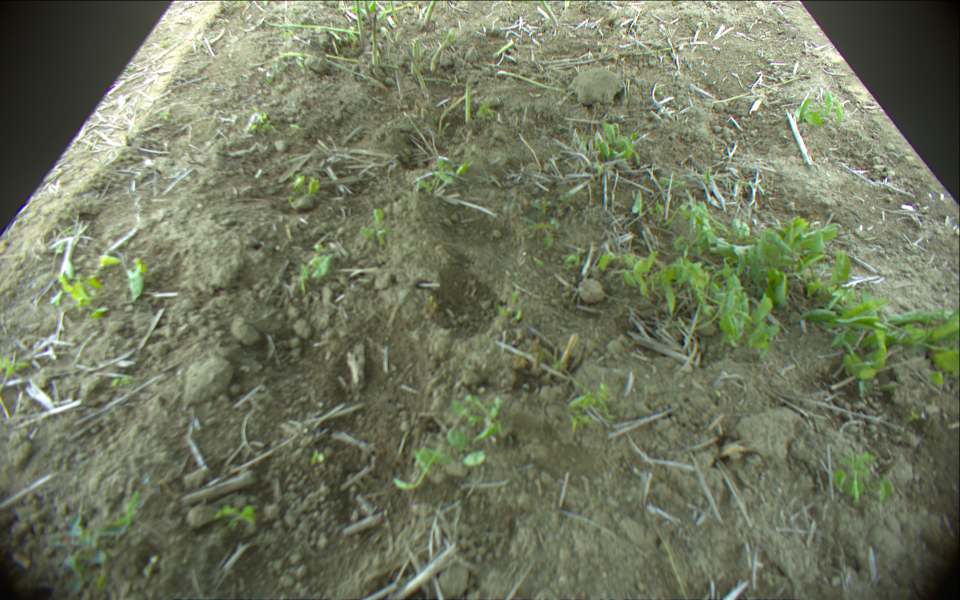aspa: (279, 63, 389, 90), (495, 69, 573, 93), (260, 18, 359, 35), (430, 28, 462, 71), (388, 1, 403, 23), (465, 82, 473, 121), (355, 1, 362, 40), (423, 1, 436, 22), (371, 12, 376, 66), (413, 39, 418, 75)
